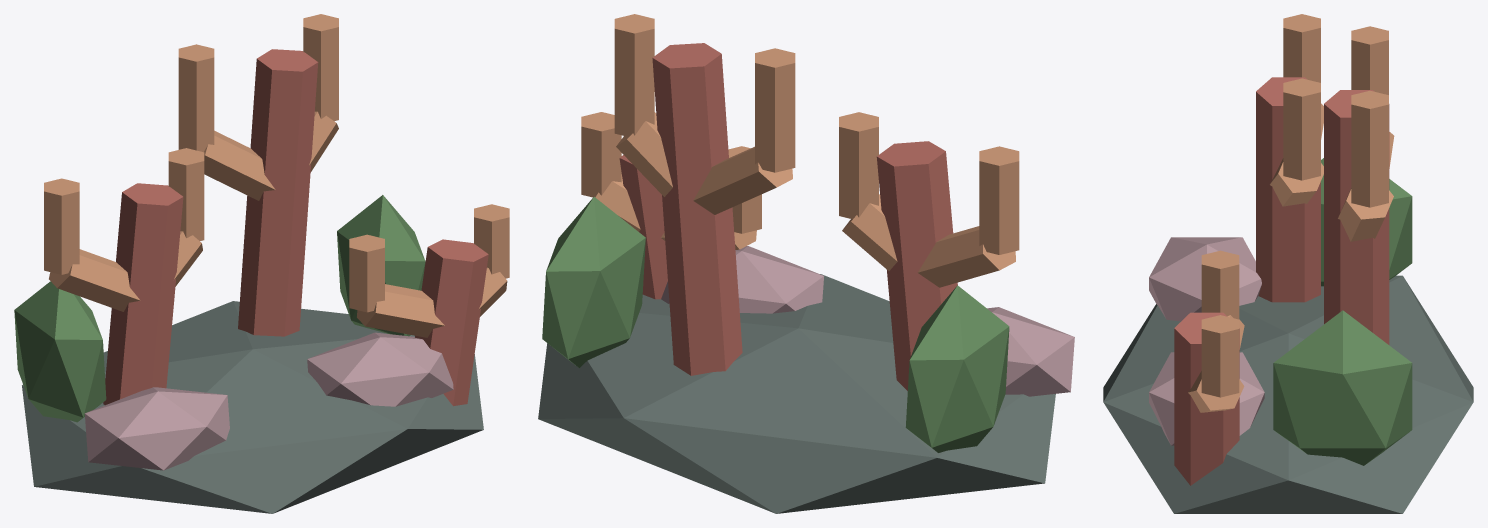
File: PirateCove_CoralCluster_Showcase.glb
3 views of the same model, side by side, from view 1: azimuth 30°, elevation 25°; view 2: azimuth 150°, elevation 25°; view 3: azimuth 270°, elevation 25° (orthographic). The views are drawn at different scales.
Parts seen in each view (by area): view 1: PirateCove_CoralCluster_Showcase; view 2: PirateCove_CoralCluster_Showcase; view 3: PirateCove_CoralCluster_Showcase.
Boxes of the visible parts, bbox=[...] form: PirateCove_CoralCluster_Showcase: bbox=[14, 14, 509, 513]; PirateCove_CoralCluster_Showcase: bbox=[538, 14, 1074, 513]; PirateCove_CoralCluster_Showcase: bbox=[1103, 14, 1473, 513].
Bounding box in the file's own units: 1.99 × 1.67 × 1.36.
